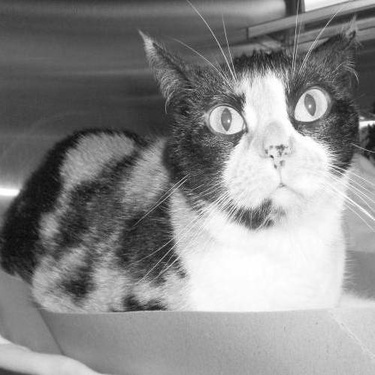cat: (1, 2, 371, 335)
